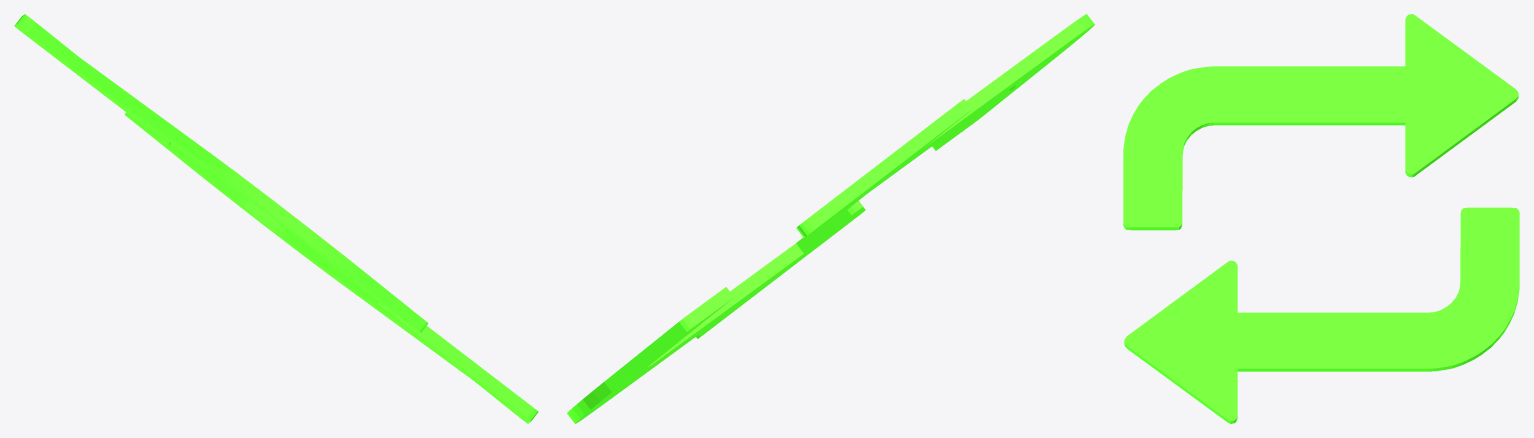
Rendered from interactiveContent_on.glb.
3 views of the same model, side by side, from view 1: azimuth 30°, elevation 25°; view 2: azimuth 150°, elevation 25°; view 3: azimuth 270°, elevation 25° (orthographic). The views are drawn at different scales.
Parts seen in each view (by area): view 1: int_on; view 2: int_on; view 3: int_on.
Boxes of the visible parts, left/top/right/bottom form: int_on: left=14, top=14, right=538, bottom=423; int_on: left=567, top=14, right=1094, bottom=423; int_on: left=1123, top=14, right=1519, bottom=423.
Size of the model in its own units: 0.0303 by 0.0303 by 0.0384.
